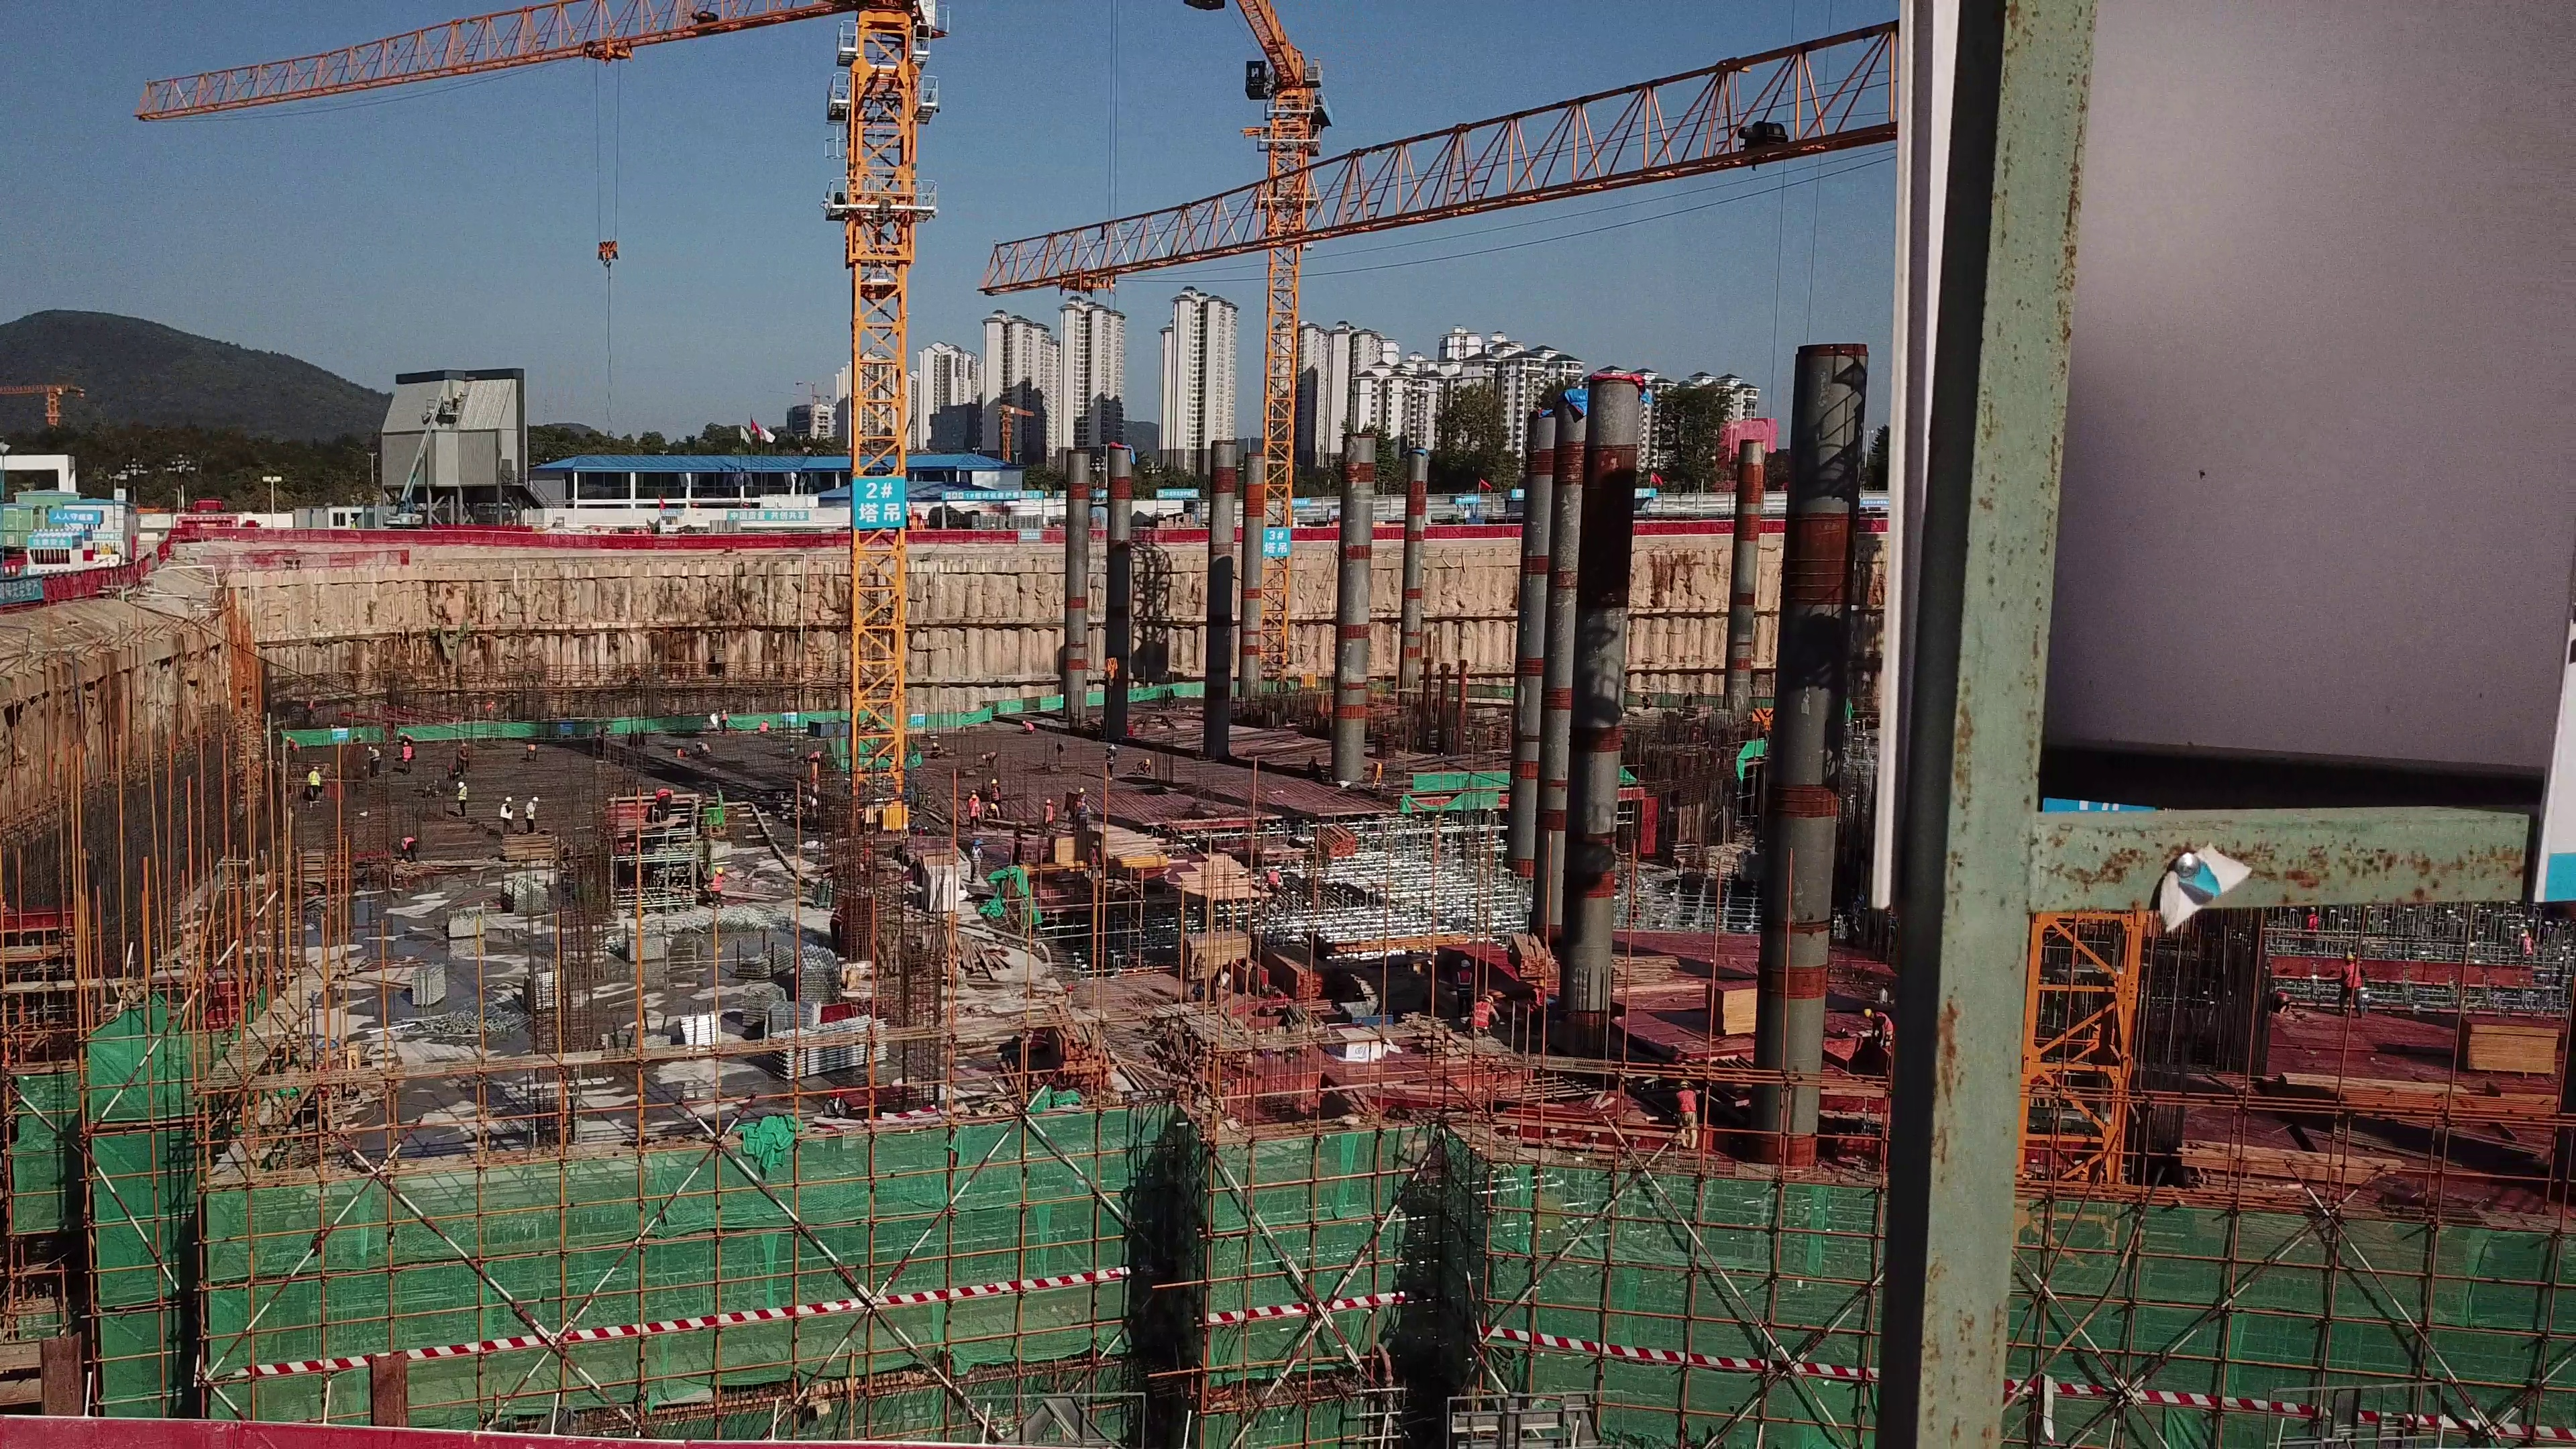board: (2461, 1017, 2557, 1075), (1705, 977, 1759, 1036), (1185, 933, 1249, 971), (501, 831, 555, 861), (296, 847, 343, 881), (909, 835, 955, 863)
brick: (924, 866, 959, 914), (711, 518, 741, 531)
ebox: (883, 804, 907, 833), (346, 1040, 364, 1075), (1370, 762, 1382, 788), (1302, 675, 1317, 686), (100, 546, 112, 554)
fence: (1, 1410, 508, 1449), (7, 565, 139, 608)
helmet: (828, 1089, 843, 1097), (715, 865, 723, 875), (1863, 1007, 1873, 1016), (1483, 994, 1493, 1002), (532, 795, 539, 803), (989, 802, 997, 810), (1537, 977, 1544, 985), (2346, 952, 2354, 959), (458, 780, 464, 789), (1461, 960, 1470, 967), (368, 745, 372, 755), (505, 796, 513, 802), (981, 754, 989, 759), (990, 778, 998, 784), (1680, 1081, 1687, 1087), (286, 737, 292, 741), (1079, 788, 1083, 794), (973, 794, 979, 798), (1638, 694, 1643, 697), (974, 839, 977, 845)
hook: (1752, 707, 1776, 731), (600, 238, 619, 268), (1106, 657, 1117, 679)
hopper: (1342, 998, 1391, 1022), (808, 718, 849, 735), (697, 839, 731, 857), (1464, 517, 1488, 526)
person: (823, 1087, 851, 1168), (2339, 951, 2366, 1016), (1675, 1080, 1699, 1150), (1471, 995, 1503, 1038), (1453, 959, 1473, 1022), (1865, 1008, 1893, 1050), (704, 867, 725, 905), (1527, 980, 1546, 1019), (2304, 906, 2319, 949), (832, 902, 844, 955), (1014, 822, 1027, 867), (970, 838, 983, 883), (308, 766, 323, 804), (968, 795, 981, 833), (500, 796, 514, 833), (455, 781, 469, 817), (989, 777, 1002, 817), (1042, 796, 1055, 833), (457, 742, 470, 773), (525, 796, 537, 832), (400, 741, 413, 775), (1269, 865, 1283, 893), (1106, 744, 1116, 780), (285, 735, 299, 760), (401, 835, 416, 861), (2521, 928, 2534, 957), (368, 745, 379, 777), (1134, 759, 1152, 776), (1078, 786, 1087, 812), (981, 751, 998, 766), (985, 803, 1002, 821), (1640, 692, 1652, 709), (968, 789, 978, 808), (1022, 719, 1034, 733), (400, 731, 415, 745), (759, 717, 771, 733), (721, 709, 729, 734), (810, 750, 822, 760), (349, 516, 356, 527), (643, 525, 648, 535), (647, 525, 652, 534), (633, 525, 639, 533)
scaffold: (769, 1014, 886, 1077), (400, 1007, 517, 1034), (798, 945, 839, 1003), (731, 947, 790, 978), (741, 982, 778, 1027), (608, 1023, 664, 1053), (505, 873, 547, 912), (770, 1002, 818, 1034), (678, 1012, 720, 1048), (412, 961, 444, 1006), (525, 971, 563, 1004), (446, 910, 487, 937), (626, 934, 668, 961)
slogan: (853, 476, 904, 528), (728, 510, 806, 522), (1262, 526, 1291, 558), (1, 583, 42, 601), (50, 511, 100, 522), (27, 537, 72, 547), (909, 714, 929, 729), (1860, 498, 1894, 507), (329, 728, 349, 741), (1454, 494, 1478, 504), (557, 720, 572, 735), (782, 712, 800, 723), (942, 490, 964, 499), (1018, 490, 1042, 498), (1633, 489, 1651, 498), (1022, 530, 1038, 539), (660, 509, 678, 515), (1513, 488, 1521, 496), (1158, 489, 1163, 496), (1190, 489, 1195, 496)
vest: (1873, 1010, 1891, 1036), (1675, 1089, 1695, 1112), (2343, 963, 2361, 987), (1474, 1000, 1488, 1026), (1457, 971, 1471, 993), (1532, 987, 1544, 1008), (832, 906, 842, 924), (2308, 912, 2317, 928), (403, 745, 413, 762), (711, 875, 721, 890), (526, 802, 535, 817), (459, 786, 467, 799), (1045, 804, 1053, 822), (1270, 870, 1280, 883), (402, 835, 411, 849), (310, 772, 318, 783), (760, 722, 769, 733), (969, 802, 976, 814), (973, 847, 979, 861), (290, 740, 297, 751), (1107, 751, 1112, 763), (372, 749, 378, 757), (993, 788, 998, 797), (1026, 721, 1031, 730)
wood: (1042, 1002, 1110, 1090), (1511, 930, 1554, 977), (1318, 825, 1354, 857), (1053, 831, 1085, 865)
